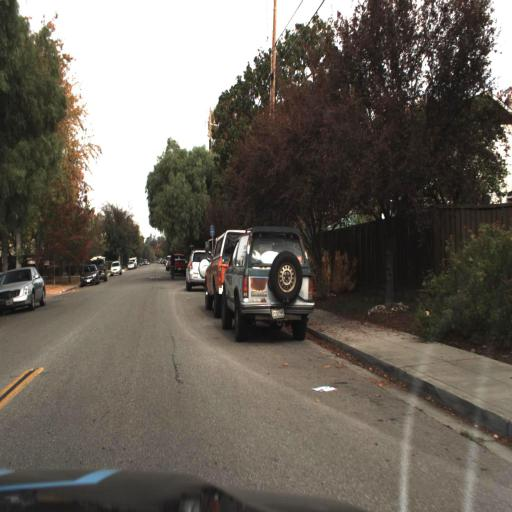car: (222, 224, 316, 343), (201, 230, 241, 321), (0, 261, 49, 315), (1, 268, 48, 316), (181, 247, 212, 297), (77, 257, 99, 290), (171, 247, 188, 275), (108, 259, 125, 280), (95, 251, 105, 285)
